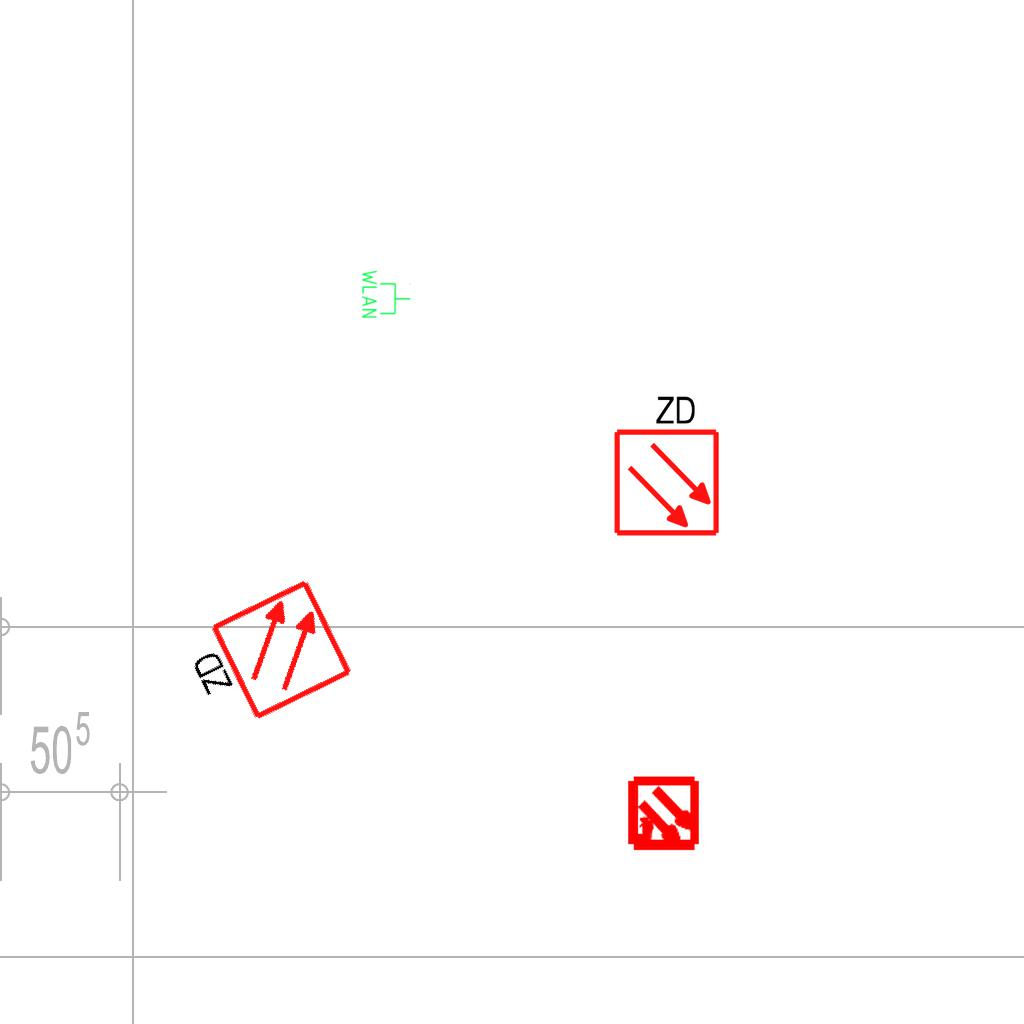OT_Multisensormelder_(Kombination_RMO_WMD): (607, 759, 720, 872)
WLAN: (360, 268, 412, 320)
ZD_Melder_in_Zwischendecke_mit_Revisionsoeffnung_mind_40_x_40_cm: (173, 575, 357, 744), (608, 389, 722, 538)
